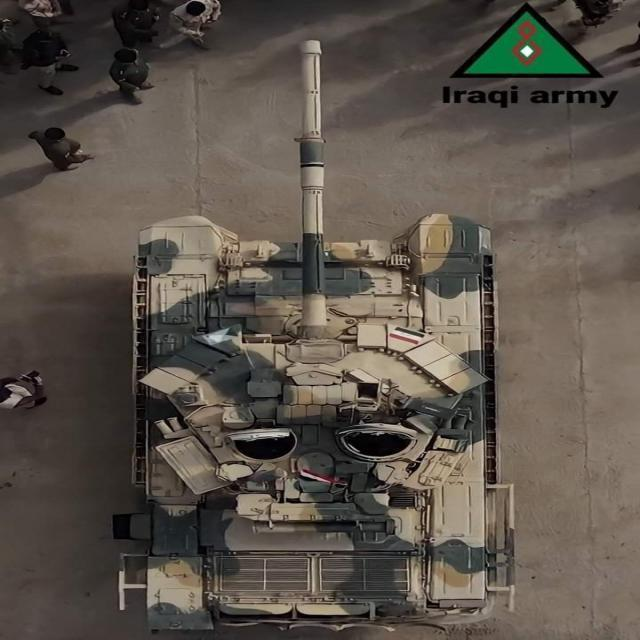Tanks: (112, 41, 526, 640)
